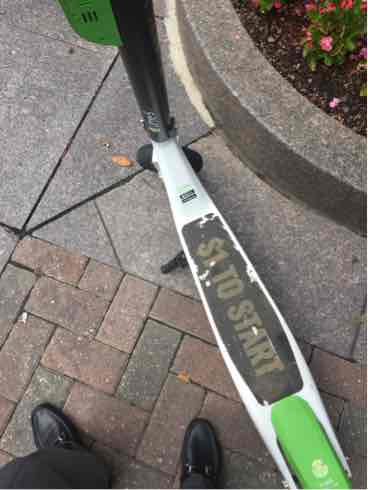scooter: (6, 7, 354, 490)
